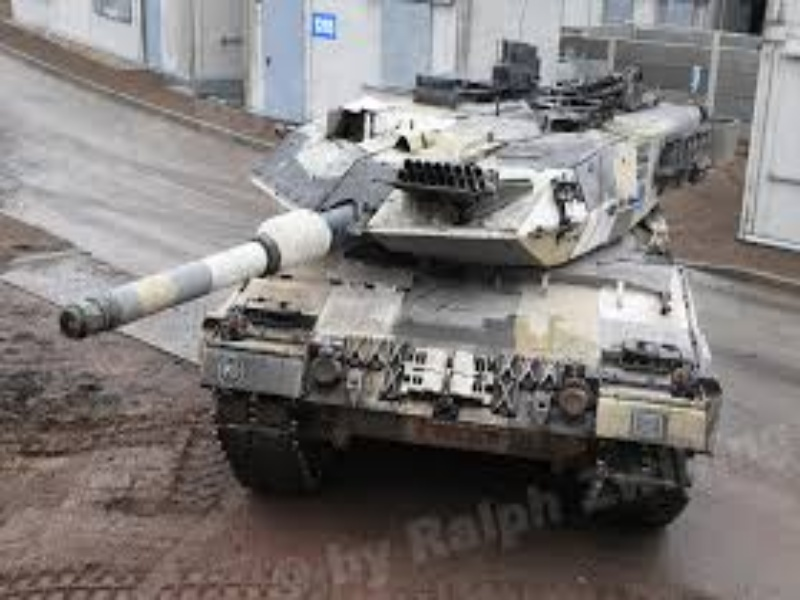tank: (56, 36, 727, 543)
